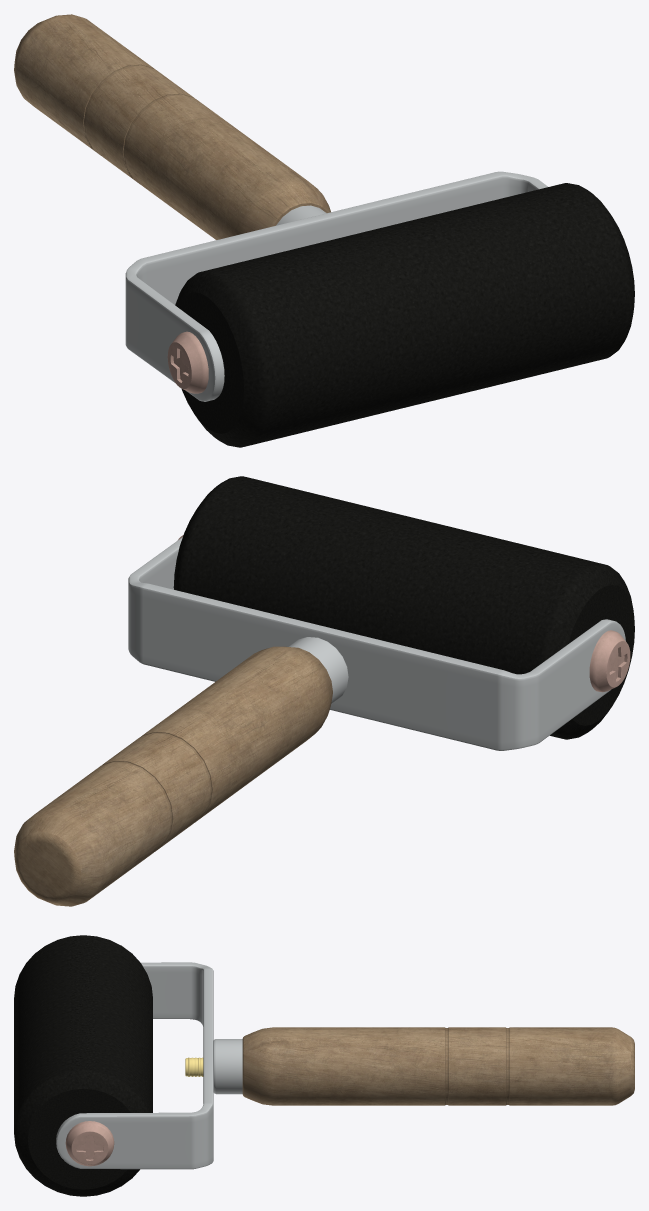
File: paint_roller.glb
3 renders of one model, top to bottom at view 1: azimuth 30°, elevation 25°; view 2: azimuth 150°, elevation 25°; view 3: azimuth 270°, elevation 25°, orthographic. The views are drawn at different scales.
Visible parts, largest first — view 1: pDisc6, group1 (×3); view 2: group1 (×4), pDisc6; view 3: group1 (×4), pDisc6.
Boxes of the visible parts, x1=… form: pDisc6: x1=175, y1=183, x2=634, y2=447; group1 (×3): x1=14, y1=14, x2=547, y2=401; group1 (×4): x1=14, y1=535, x2=630, y2=906; pDisc6: x1=173, y1=476, x2=634, y2=739; group1 (×4): x1=56, y1=962, x2=634, y2=1169; pDisc6: x1=14, y1=935, x2=152, y2=1196.
Size of the model in its own units: 12.96 by 4.63 by 20.67.
6 materials, 6 textured.
